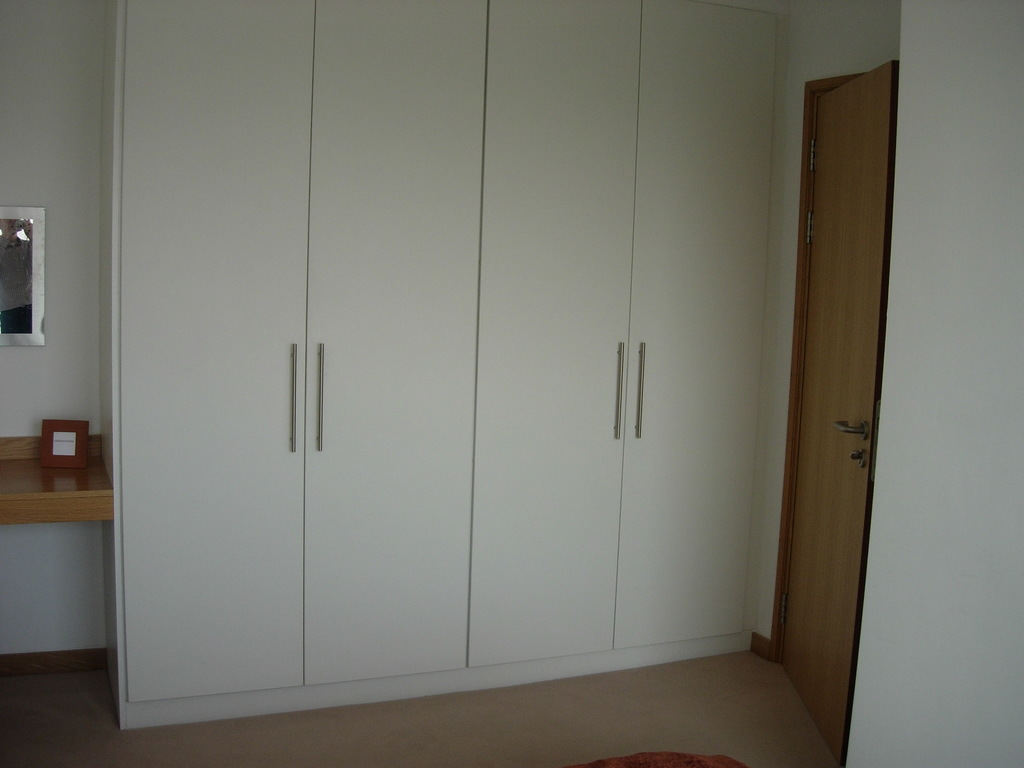cabinet door: (135, 5, 306, 683), (317, 2, 467, 669), (494, 9, 619, 651), (630, 33, 756, 643)
door: (793, 80, 874, 702)
handle: (610, 331, 626, 434), (286, 335, 299, 450), (316, 336, 328, 452), (638, 343, 651, 437), (830, 418, 868, 442)
